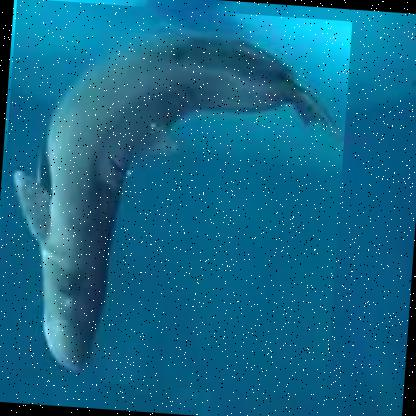sperm_whale: (0, 0, 353, 400)
